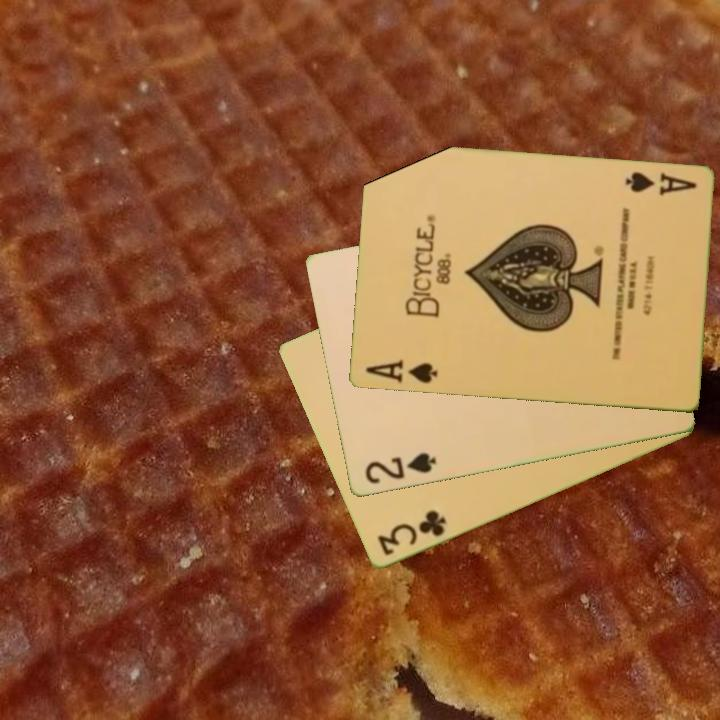2s: (361, 449, 439, 487)
3c: (374, 507, 449, 559)
As: (362, 356, 440, 387), (621, 169, 699, 199)
